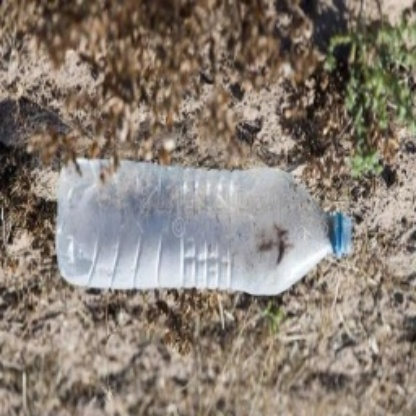bottle: (57, 157, 352, 297)
